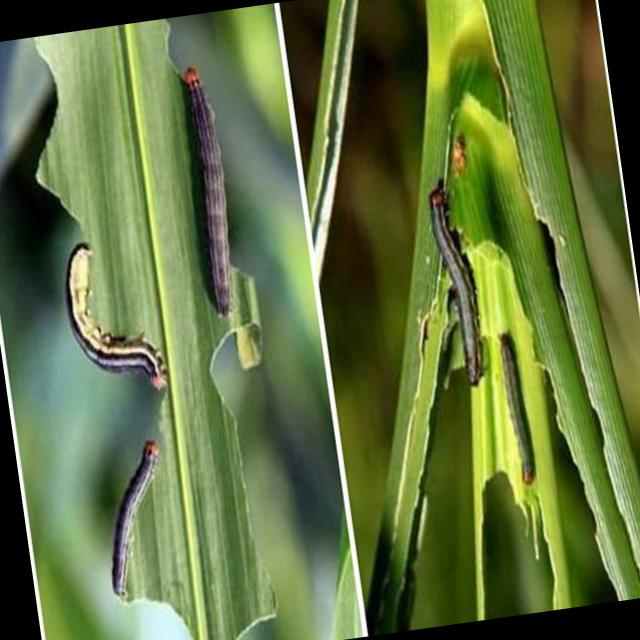pest: (168, 85, 245, 317), (415, 170, 490, 399), (70, 234, 170, 398), (99, 442, 175, 605), (493, 331, 543, 484)
